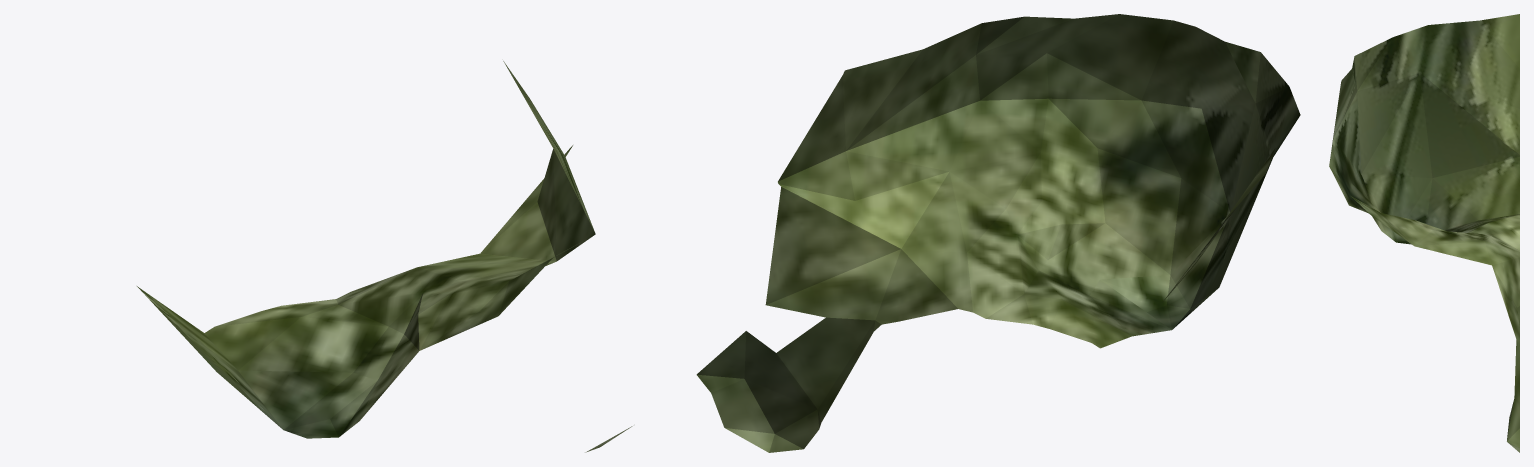
The picture shows the model from 3 angles, left to right: view 1: azimuth 30°, elevation 25°; view 2: azimuth 150°, elevation 25°; view 3: azimuth 270°, elevation 25°; orthographic projection. The views are drawn at different scales.
Size of the model in its own units: 1.9 by 1.28 by 0.8169.
Materials: 1 (1 with a texture image).
